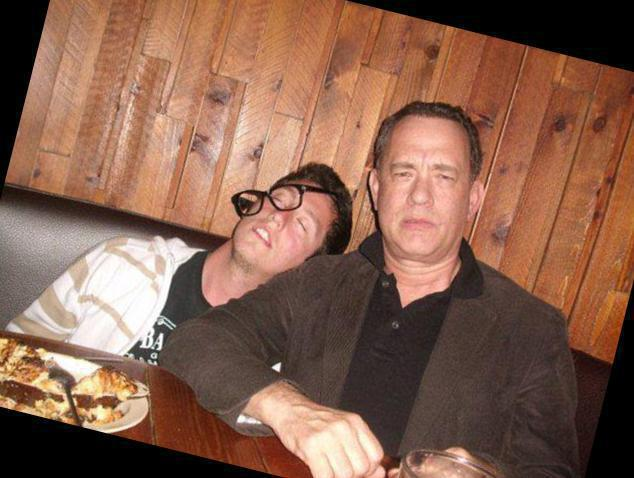Drunk: (376, 112, 466, 252), (244, 173, 319, 265)
